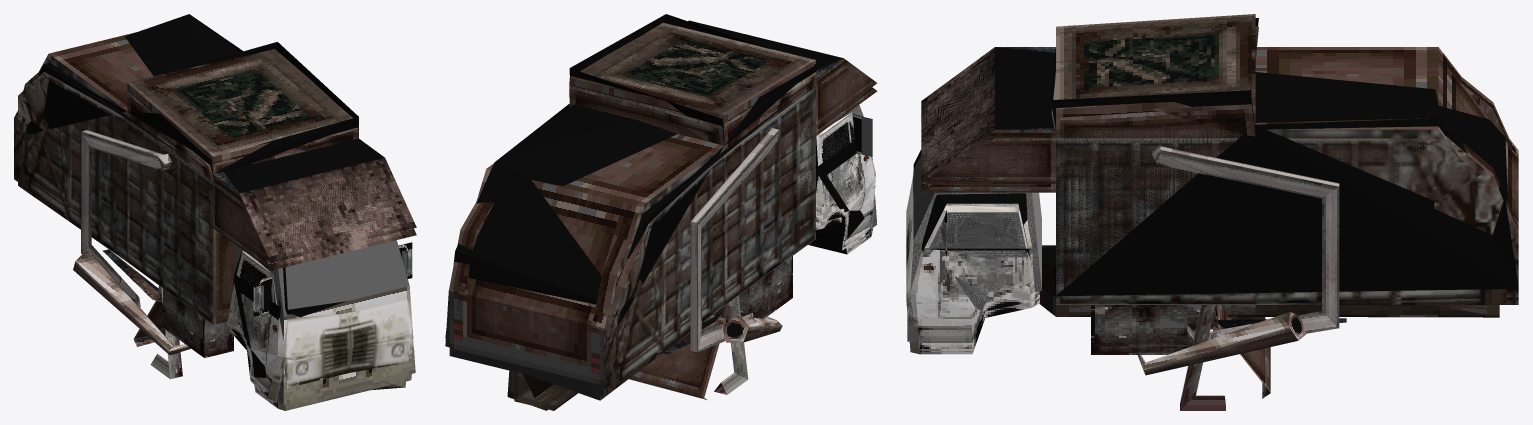
The model's file is v82_grubb_dual_loader.obj.
The picture shows the model from 3 angles, left to right: view 1: azimuth 30°, elevation 25°; view 2: azimuth 150°, elevation 25°; view 3: azimuth 270°, elevation 25°; orthographic projection. The views are drawn at different scales.
Visible parts, largest first — view 1: v82_grubb_dual_loader_tmd_007, v82_grubb_dual_loader_tmd_002, v82_grubb_dual_loader_tmd_020, v82_grubb_dual_loader_tmd_008, v82_grubb_dual_loader_tmd_003, v82_grubb_dual_loader_tmd_000, v82_grubb_dual_loader_tmd_016, v82_grubb_dual_loader_tmd_009, v82_grubb_dual_loader_tmd_017, v82_grubb_dual_loader_tmd_001, v82_grubb_dual_loader_tmd_014; view 2: v82_grubb_dual_loader_tmd_007, v82_grubb_dual_loader_tmd_020, v82_grubb_dual_loader_tmd_002, v82_grubb_dual_loader_tmd_008, v82_grubb_dual_loader_tmd_003, v82_grubb_dual_loader_tmd_009, v82_grubb_dual_loader_tmd_000, v82_grubb_dual_loader_tmd_014, v82_grubb_dual_loader_tmd_016, v82_grubb_dual_loader_tmd_017, v82_grubb_dual_loader_tmd_001; view 3: v82_grubb_dual_loader_tmd_020, v82_grubb_dual_loader_tmd_007, v82_grubb_dual_loader_tmd_002, v82_grubb_dual_loader_tmd_008, v82_grubb_dual_loader_tmd_003, v82_grubb_dual_loader_tmd_009, v82_grubb_dual_loader_tmd_000, v82_grubb_dual_loader_tmd_016, v82_grubb_dual_loader_tmd_017, v82_grubb_dual_loader_tmd_014, v82_grubb_dual_loader_tmd_005, v82_grubb_dual_loader_tmd_010.
Boxes of the visible parts, x1,y1,x2,y2 form: v82_grubb_dual_loader_tmd_007: (14, 32, 416, 405); v82_grubb_dual_loader_tmd_002: (127, 91, 416, 410); v82_grubb_dual_loader_tmd_020: (28, 14, 416, 378); v82_grubb_dual_loader_tmd_008: (14, 71, 127, 261); v82_grubb_dual_loader_tmd_003: (132, 119, 410, 400); v82_grubb_dual_loader_tmd_000: (81, 130, 171, 307); v82_grubb_dual_loader_tmd_016: (73, 250, 190, 355); v82_grubb_dual_loader_tmd_009: (18, 72, 124, 257); v82_grubb_dual_loader_tmd_017: (150, 287, 182, 379); v82_grubb_dual_loader_tmd_001: (102, 249, 162, 302); v82_grubb_dual_loader_tmd_014: (134, 297, 165, 338); v82_grubb_dual_loader_tmd_007: (449, 22, 877, 397); v82_grubb_dual_loader_tmd_020: (445, 14, 864, 393); v82_grubb_dual_loader_tmd_002: (569, 66, 877, 322); v82_grubb_dual_loader_tmd_008: (449, 155, 724, 410); v82_grubb_dual_loader_tmd_003: (569, 72, 875, 250); v82_grubb_dual_loader_tmd_009: (445, 158, 721, 410); v82_grubb_dual_loader_tmd_000: (690, 127, 779, 352); v82_grubb_dual_loader_tmd_014: (630, 315, 726, 397); v82_grubb_dual_loader_tmd_016: (722, 316, 782, 342); v82_grubb_dual_loader_tmd_017: (714, 296, 748, 394); v82_grubb_dual_loader_tmd_001: (663, 311, 725, 354); v82_grubb_dual_loader_tmd_020: (913, 18, 1518, 296); v82_grubb_dual_loader_tmd_007: (907, 14, 1518, 346); v82_grubb_dual_loader_tmd_002: (906, 105, 1255, 354); v82_grubb_dual_loader_tmd_008: (1255, 77, 1518, 316); v82_grubb_dual_loader_tmd_003: (906, 26, 1258, 354); v82_grubb_dual_loader_tmd_009: (1256, 136, 1518, 317); v82_grubb_dual_loader_tmd_000: (1152, 144, 1339, 340); v82_grubb_dual_loader_tmd_016: (1137, 311, 1305, 375); v82_grubb_dual_loader_tmd_017: (1180, 305, 1225, 410); v82_grubb_dual_loader_tmd_014: (1218, 305, 1270, 392); v82_grubb_dual_loader_tmd_005: (1187, 305, 1265, 329); v82_grubb_dual_loader_tmd_010: (1260, 235, 1518, 304).
Size of the model in its own units: 1.09 by 1.32 by 2.24.
Materials: 36 (29 with a texture image).
